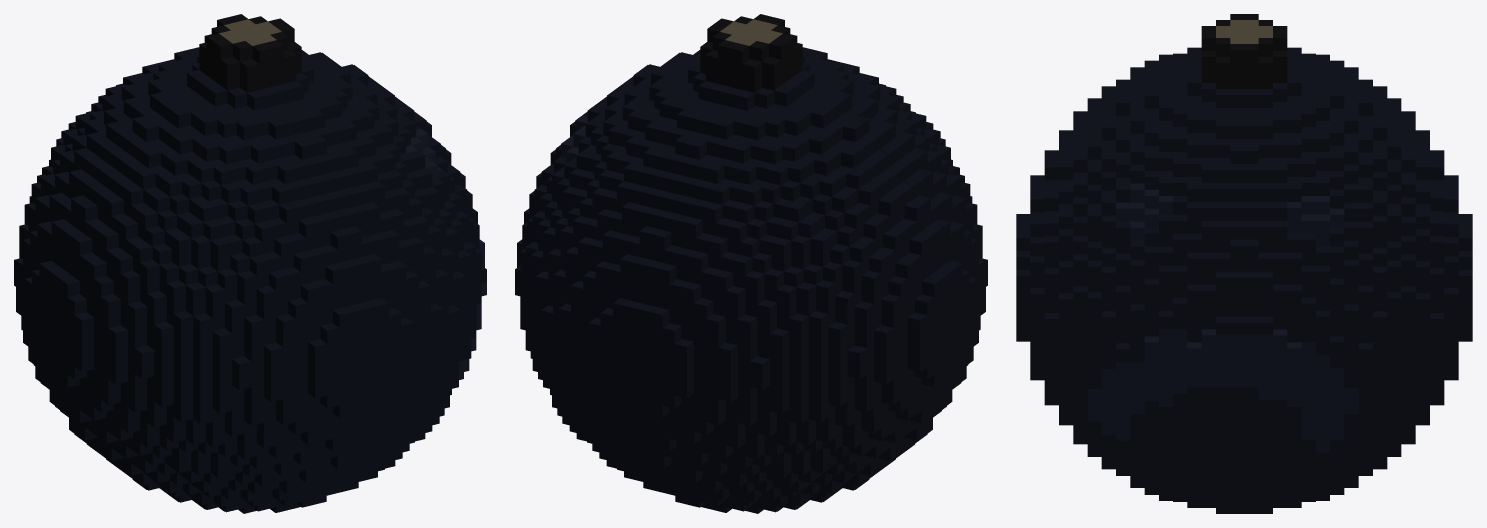
File: Bombs-2.obj
3 views of the same model, side by side, from view 1: azimuth 30°, elevation 25°; view 2: azimuth 150°, elevation 25°; view 3: azimuth 270°, elevation 25° (orthographic).
Size of the model in its own units: 3.2 by 3.5 by 3.2.
Materials: 1 (1 with a texture image).
